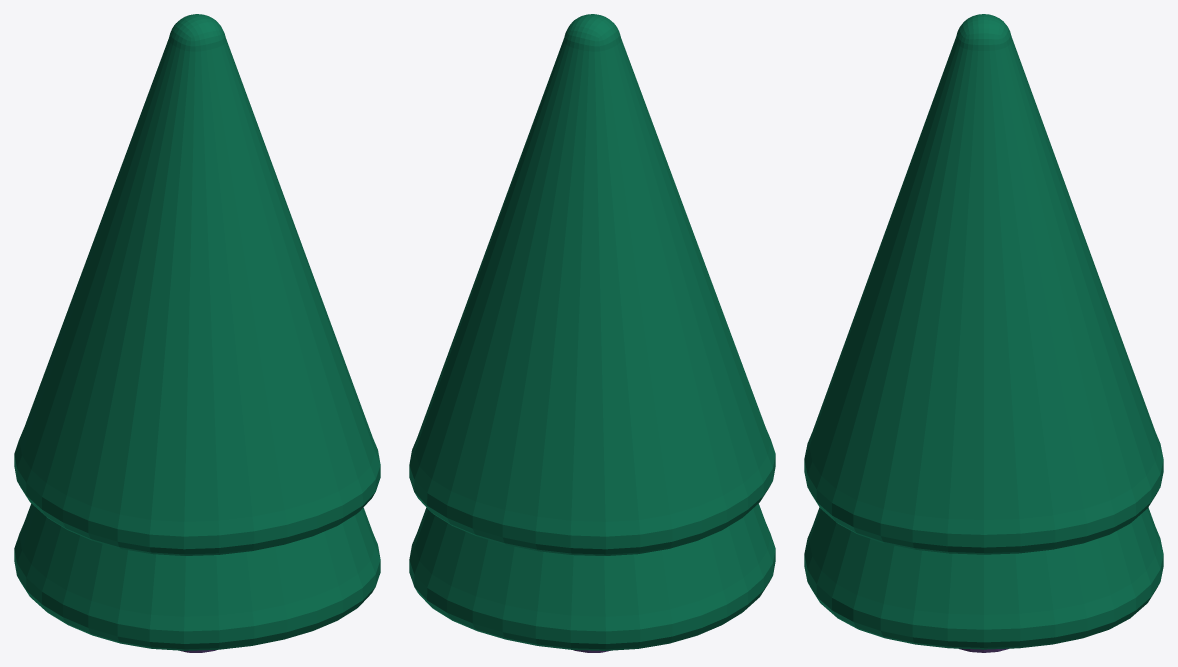
Rendered from Tree3.fbx.
3 views of the same model, side by side, from view 1: azimuth 30°, elevation 25°; view 2: azimuth 150°, elevation 25°; view 3: azimuth 270°, elevation 25° (orthographic).
Visible parts, largest first — view 1: Tree6.003; view 2: Tree6.003; view 3: Tree6.003.
Part boxes in pixels (left/top/right/bottom): Tree6.003: left=14, top=14, right=380, bottom=652; Tree6.003: left=409, top=14, right=775, bottom=652; Tree6.003: left=804, top=14, right=1163, bottom=652.
Bounding box in the file's own units: 7.17 × 13.68 × 7.17.
